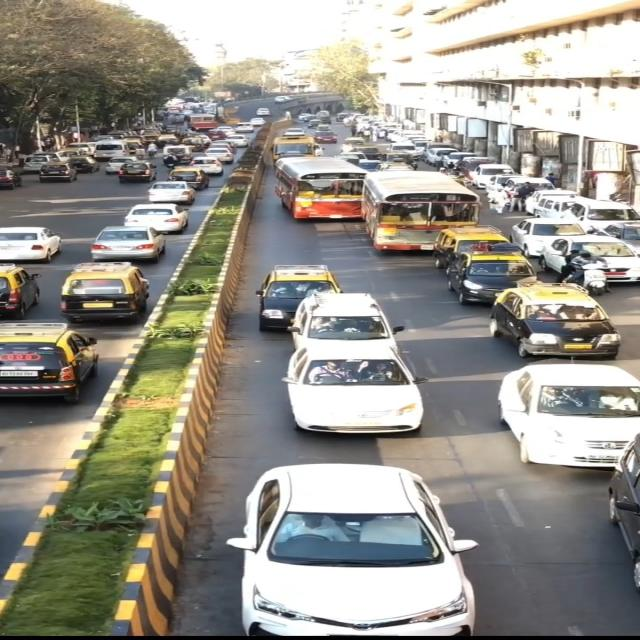Bus: (354, 172, 486, 254), (278, 159, 371, 224)
Car: (214, 453, 490, 640), (490, 367, 640, 467), (280, 349, 426, 433), (84, 226, 168, 266), (114, 202, 182, 233)
Taxi: (479, 282, 632, 360), (0, 321, 108, 403), (249, 263, 337, 322), (65, 268, 149, 328), (438, 257, 538, 301)
